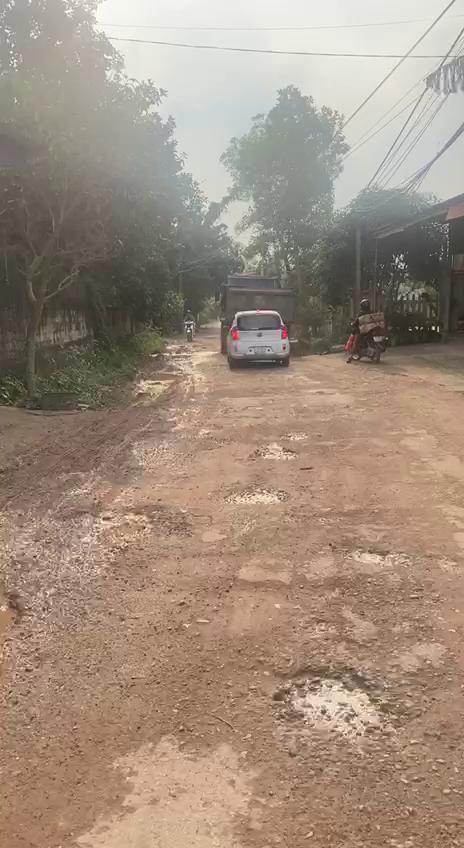pothole: (268, 657, 404, 742), (94, 502, 192, 548), (0, 584, 39, 693), (340, 540, 405, 569), (218, 485, 288, 507), (249, 440, 300, 462)
